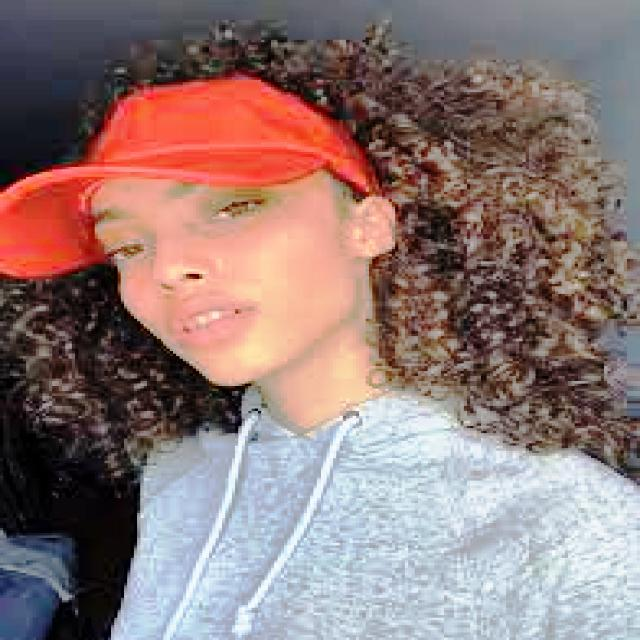TOPI: (0, 60, 395, 281)
